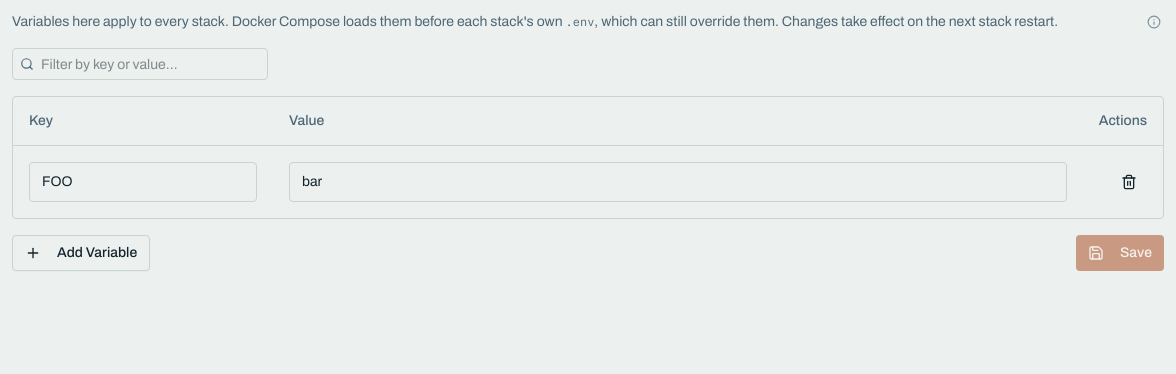
Test: GlobalEnvSettingsContent — a failed REFETCH must not discard the table › keeps the populated variables and the unsaved edit when a REFETCH fails
Replace the text in the field showing "bar" with "baz" at (678, 182), box [289,162,1067,202]
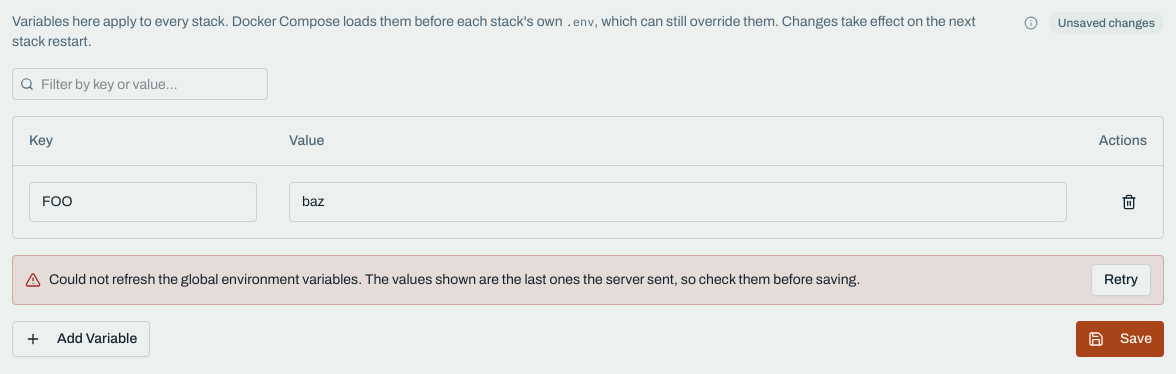
expect the text "Unsaved changes" is shown: met, box [1049,12,1164,34]
expect the text "Could not refresh the global environment variables" is shown: met, box [49,270,860,290]
Click the button "Retry" at (1121, 280), box [1091,264,1151,296]
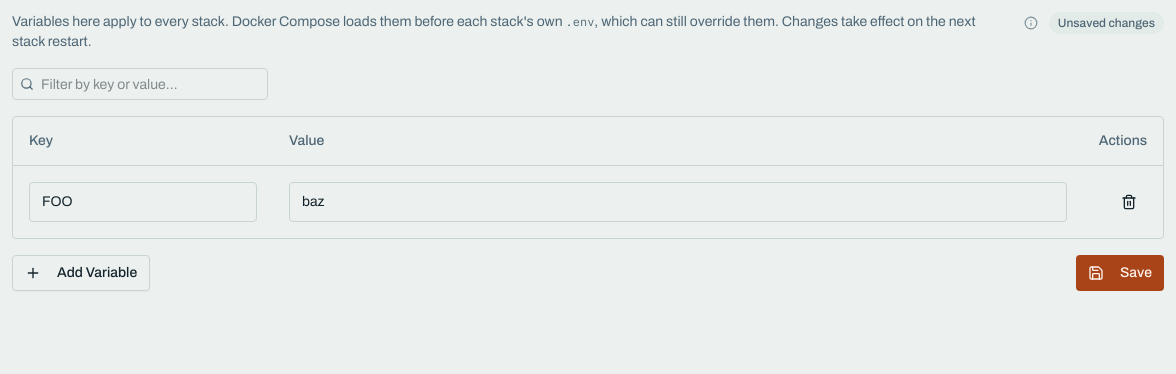
expect the text "Could not refresh the global environment variables" is gone: met
